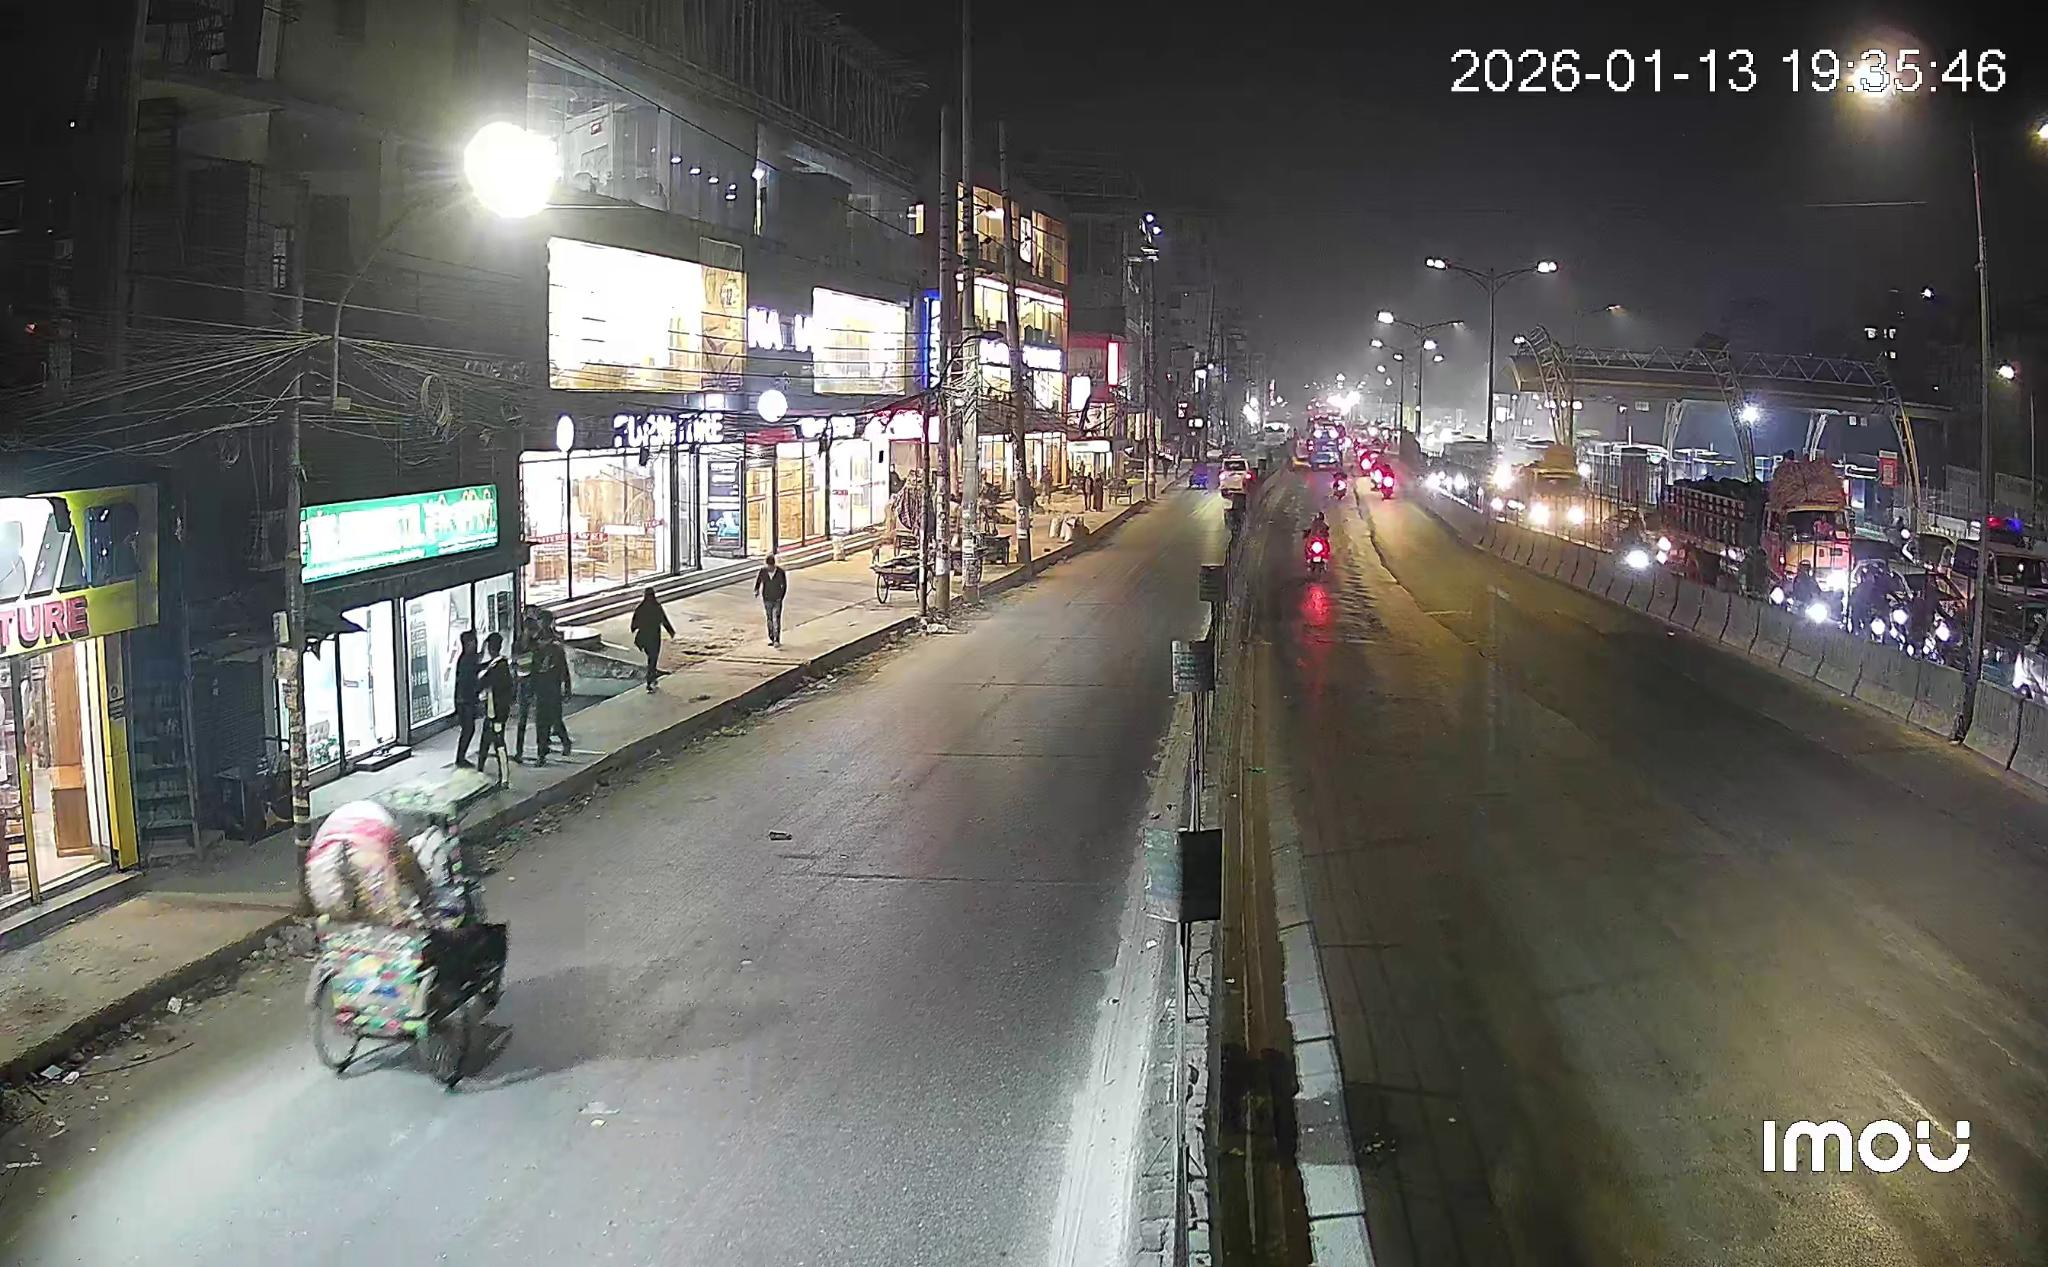Cycle Rickshaw: (306, 792, 508, 1087)
Motorcycle: (1303, 512, 1330, 575)
